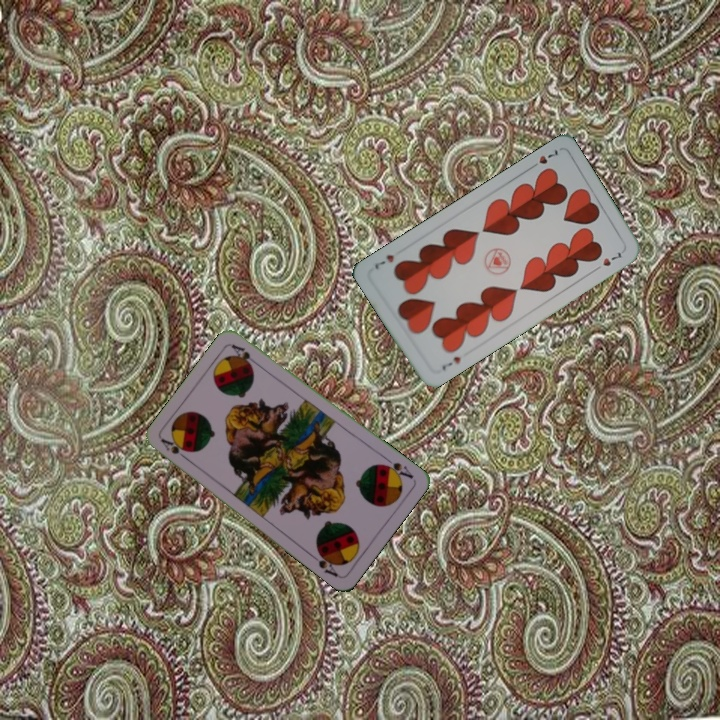H7: (526, 145, 562, 172), (438, 352, 463, 373)
SA: (378, 453, 416, 482), (157, 434, 192, 464)
